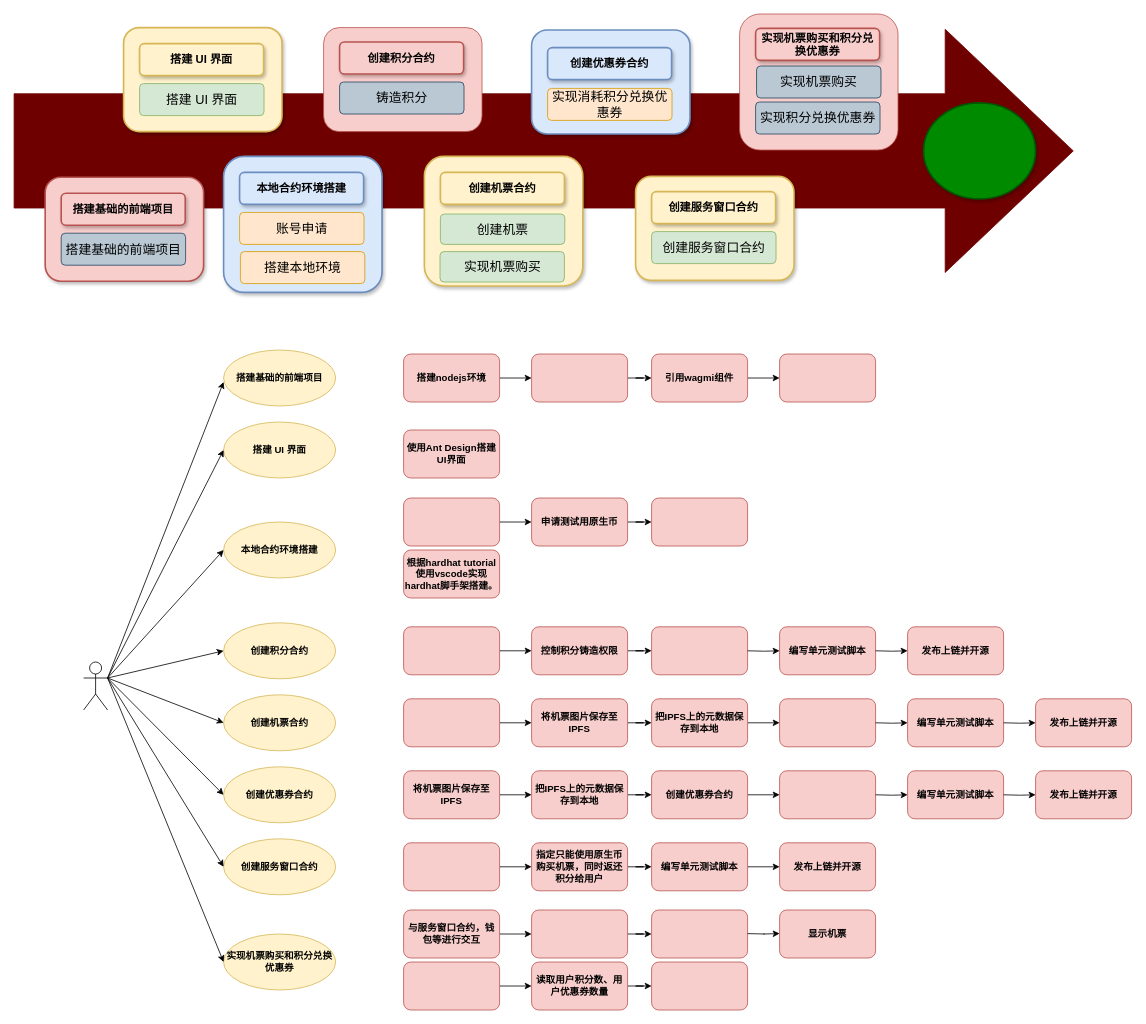
Some shapes in this 1146 by 1024 pixel diagram are drawn without their labels. The centre of each missing label's shape, as x and y in pixels:
Actor: (x=95, y=685)
Miles&More星享计划: (x=980, y=151)
与链上的积分合约，钱包等进行交互: (x=451, y=985)
使用ERC721标准实现机票合约: (x=827, y=722)
兑换优惠券同时相应扣减用户积分数量: (x=827, y=794)
引用RainbowKit组件: (x=827, y=377)
指明积分合约地址、机票地址以及购买一张机票可以获取多少积分: (x=451, y=866)
控制总供应量的上限10w: (x=451, y=650)
搭建Next.js环境: (x=579, y=377)
显示优惠券: (x=699, y=985)
申请Metamask账号: (x=451, y=521)
申请NFT_STORAGE服务: (x=451, y=722)
申请RPC账号: (x=699, y=521)
解决异步渲染问题: (x=579, y=933)
读取机票价格以及剩余机票数: (x=699, y=933)
购买机票时将发放相应积分: (x=699, y=650)
